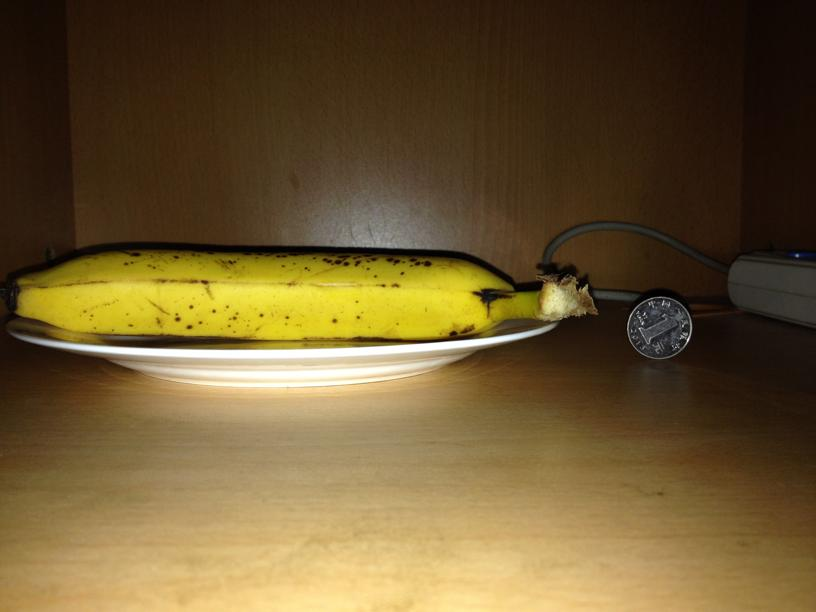banana: (18, 258, 553, 336)
coin: (627, 298, 692, 361)
